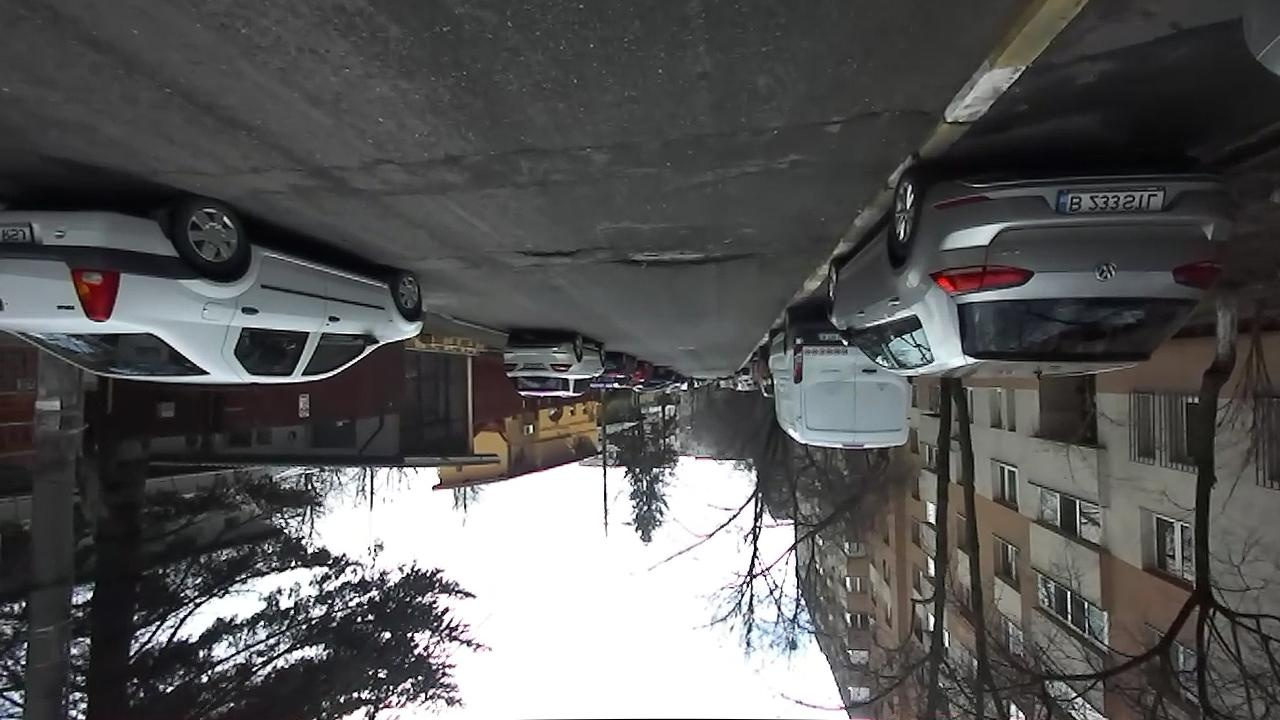pothole: (613, 242, 770, 274), (815, 103, 926, 131), (510, 240, 603, 263)
